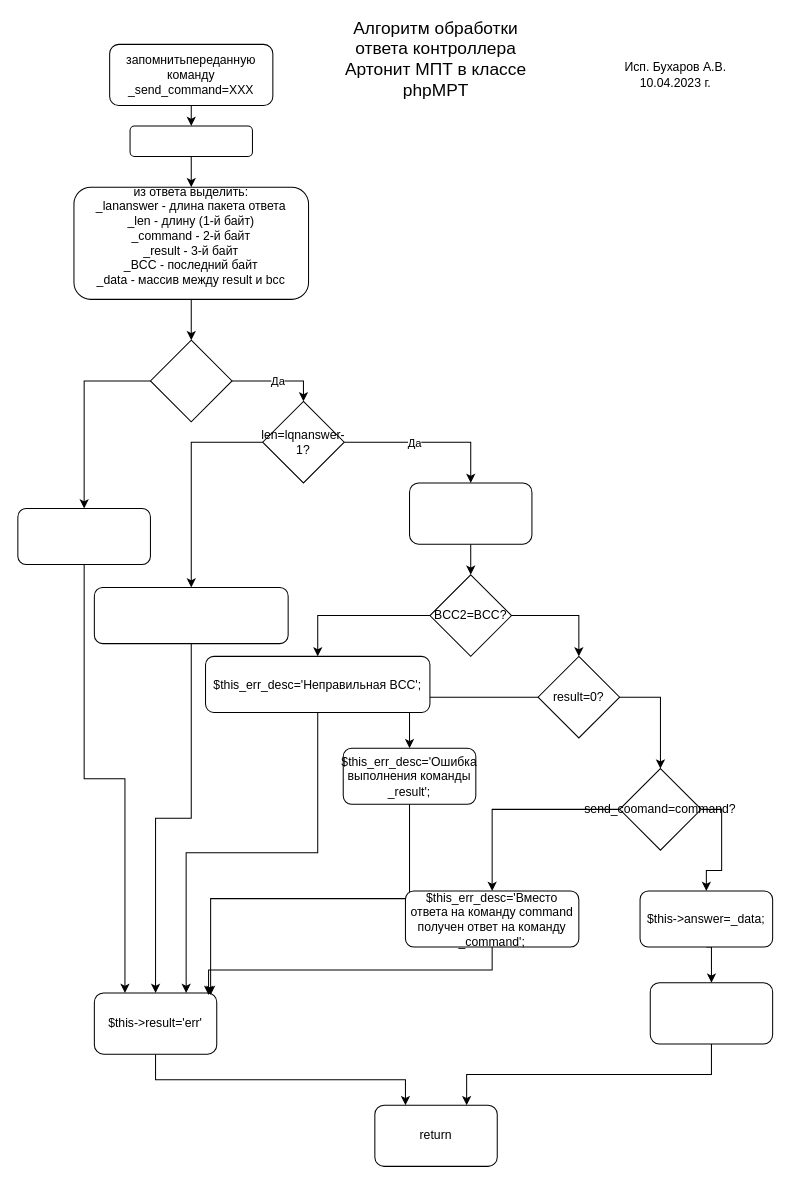
Some shapes in this 791 by 1184 pixel diagram are drawn without their labels. The box of each missing label's shape, as (x1, y1, x2, y2) in pixels:
$this->result='Ok': (649, 982, 773, 1044)
$this_err_desc='Неправильная длина пакета';: (93, 586, 288, 644)
$this_err_desc='Очень длинный текст >255';: (17, 507, 150, 565)
lemanswer<255?: (149, 339, 232, 422)
получил ответ: (129, 125, 252, 157)
Расчет BCC2 по полученному ответу: (409, 482, 532, 544)
